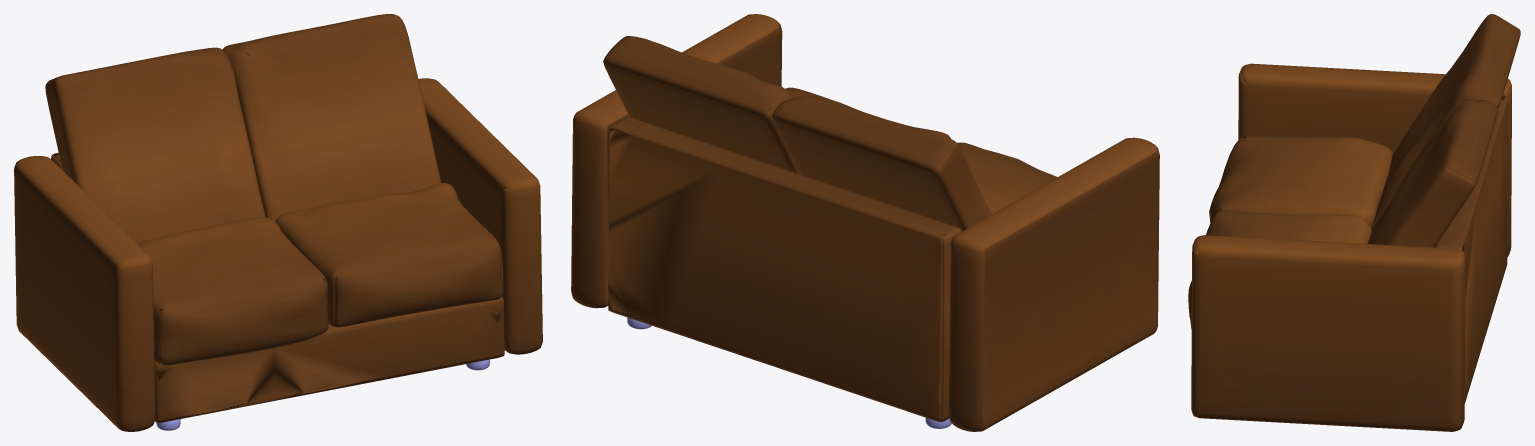
The model's file is sofa.obj.
3 renders of one model, left to right at view 1: azimuth 30°, elevation 25°; view 2: azimuth 150°, elevation 25°; view 3: azimuth 270°, elevation 25°, orthographic. The views are drawn at different scales.
Parts seen in each view (by area): view 1: Box006, Box004, Box003, Box007, Box005, Box001, Box002; view 2: Box001, Box003, Box004, Box006, Box002, Box005, Box007; view 3: Box002, Box003, Box005, Box006, Box001, Box004, Box007.
Boxes of the visible parts, bbox=[...] form: Box006: bbox=[222, 14, 441, 221]; Box004: bbox=[45, 47, 265, 243]; Box003: bbox=[14, 156, 155, 431]; Box007: bbox=[275, 182, 503, 327]; Box005: bbox=[137, 217, 328, 365]; Box001: bbox=[51, 152, 504, 422]; Box002: bbox=[418, 78, 542, 354]; Box001: bbox=[608, 117, 961, 421]; Box003: bbox=[948, 137, 1159, 431]; Box004: bbox=[772, 95, 991, 231]; Box006: bbox=[603, 36, 799, 174]; Box002: bbox=[571, 14, 782, 308]; Box005: bbox=[957, 142, 1057, 214]; Box007: bbox=[785, 87, 950, 138]; Box002: bbox=[1191, 235, 1465, 431]; Box003: bbox=[1238, 63, 1511, 256]; Box005: bbox=[1209, 136, 1393, 227]; Box006: bbox=[1367, 98, 1497, 247]; Box001: bbox=[1434, 95, 1508, 403]; Box004: bbox=[1371, 14, 1520, 229]; Box007: bbox=[1188, 210, 1371, 329].
Bounding box in the file's own units: 2.73 × 1.63 × 1.84.
Materials: 8 (7 with a texture image).
